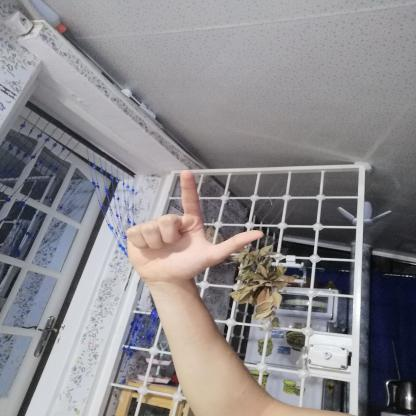LAAM: (110, 164, 272, 289)
